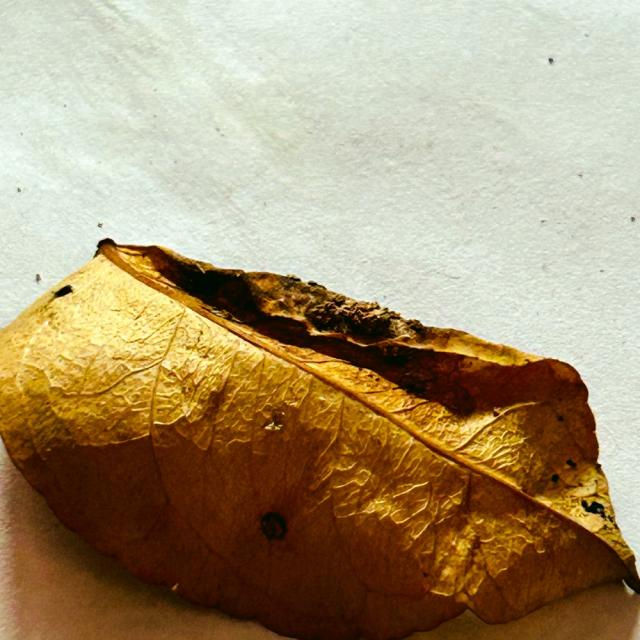DryLeaf_Lemon: (0, 239, 639, 638)
